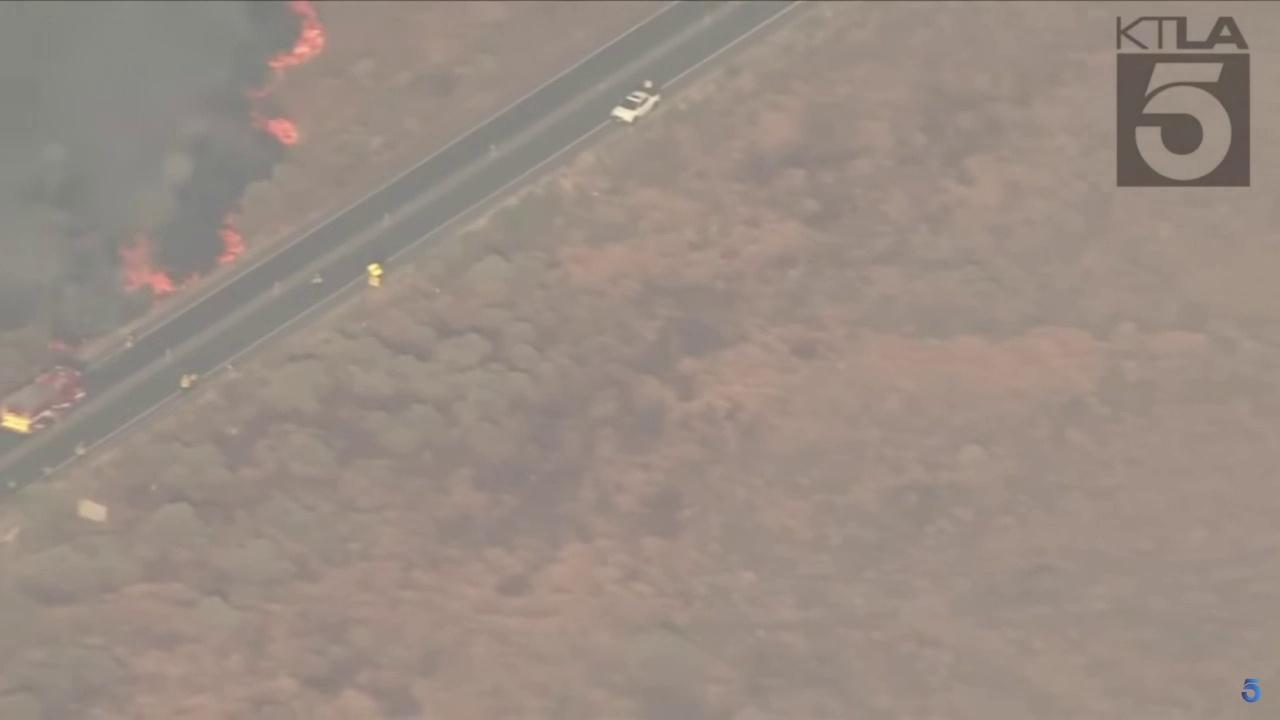fire: (266, 0, 328, 70), (115, 233, 176, 296), (247, 110, 300, 145), (215, 210, 248, 266), (47, 339, 66, 350)
smoke: (0, 0, 306, 345)
